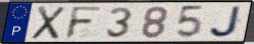3: (105, 6, 136, 39)
5: (174, 4, 208, 41)
8: (141, 5, 170, 39)
F: (64, 5, 105, 40)
J: (208, 5, 244, 39)
X: (29, 5, 68, 41)
